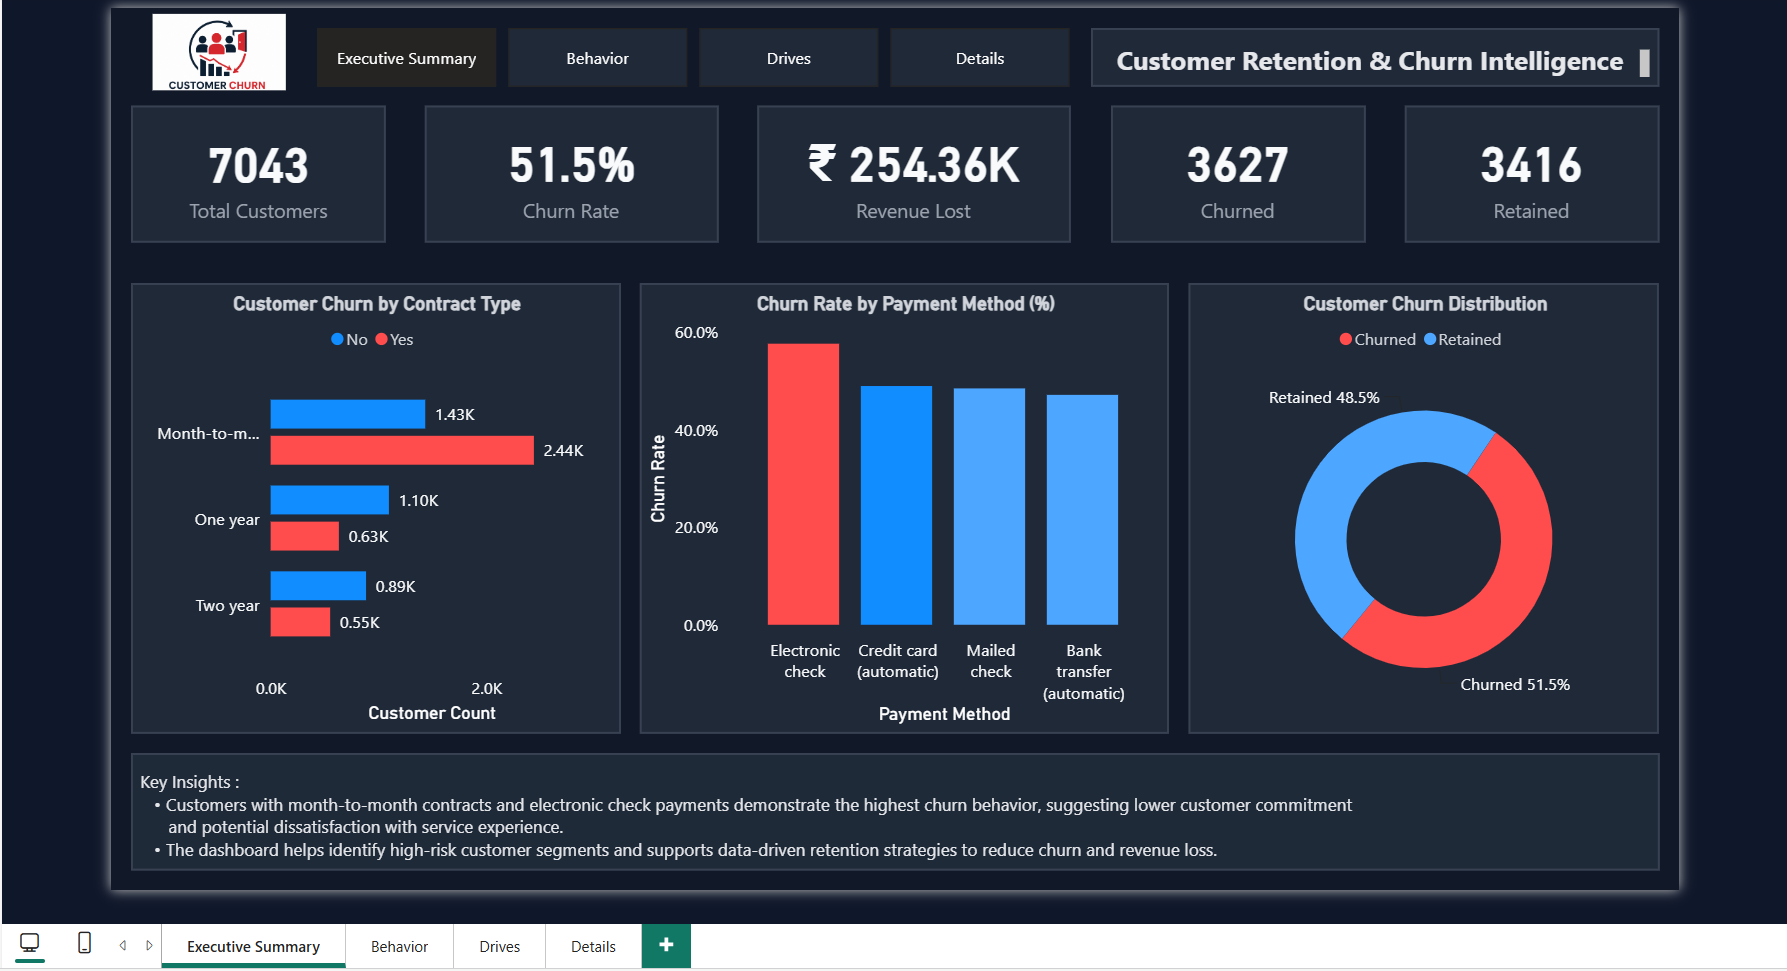

The page's visual inventory and layout, read from the dashboard file:
{"tool":"powerbi","page":{"name":"Executive Summary","canvas":[1280,720],"ordinal":0},"visuals":[{"type":"card","fields":{"Values":["churn_project customers.Churn Rate"]},"box":[256,80,240,112],"z":0},{"type":"card","fields":{"Values":["churn_project customers.Churned Customers"]},"box":[816,80,208,112],"z":1000},{"type":"card","fields":{"Values":["churn_project customers.Revenue Lost"]},"box":[528,80,256,112],"z":2000},{"type":"card","fields":{"Values":["churn_project customers.Total Customers"]},"box":[16,80,208,112],"z":3000},{"type":"textbox","box":[800,16,464,48],"z":4000},{"type":"textbox","box":[16,608,1248,96],"z":5000},{"type":"columnChart","title":" Churn Rate by Payment Method (%)","fields":{"Y":["churn_project customers.Churn Rate"],"Category":["churn_project customers.PaymentMethod"]},"box":[432,224,432,368],"z":6000},{"type":"donutChart","title":"Customer Churn Distribution","fields":{"Y":["churn_project customers.Churned Customers","churn_project customers.Non Churned Customers"]},"box":[880,224,384,368],"z":7000},{"type":"card","fields":{"Values":["churn_project customers.Non Churned Customers"]},"box":[1056,80,208,112],"z":8000},{"type":"clusteredBarChart","title":"Customer Churn by Contract Type","fields":{"Y":["CountNonNull(churn_project fact_churn.churn)"],"Series":["churn_project fact_churn.churn"],"Category":["churn_project dim_contract.contract_type"]},"box":[16,224,400,368],"z":9000},{"type":"pageNavigator","box":[168,16,616,48],"z":10000},{"type":"image","box":[16,0,144,72],"z":11000}]}

Visuals, with their boxes on the page's 1280x720 design canvas (x1, y1, x2, y2). These are canvas units, not pixel positions in the 1787x971 screenshot, which may show the page scaled, cropped or inside an application window:
card - churn_project customers.Churn Rate: {"x1": 256, "y1": 80, "x2": 496, "y2": 192}
card - churn_project customers.Churned Customers: {"x1": 816, "y1": 80, "x2": 1024, "y2": 192}
card - churn_project customers.Revenue Lost: {"x1": 528, "y1": 80, "x2": 784, "y2": 192}
card - churn_project customers.Total Customers: {"x1": 16, "y1": 80, "x2": 224, "y2": 192}
textbox: {"x1": 800, "y1": 16, "x2": 1264, "y2": 64}
textbox: {"x1": 16, "y1": 608, "x2": 1264, "y2": 704}
" Churn Rate by Payment Method (%)" columnChart: {"x1": 432, "y1": 224, "x2": 864, "y2": 592}
"Customer Churn Distribution" donutChart: {"x1": 880, "y1": 224, "x2": 1264, "y2": 592}
card - churn_project customers.Non Churned Customers: {"x1": 1056, "y1": 80, "x2": 1264, "y2": 192}
"Customer Churn by Contract Type" clusteredBarChart: {"x1": 16, "y1": 224, "x2": 416, "y2": 592}
pageNavigator: {"x1": 168, "y1": 16, "x2": 784, "y2": 64}
image: {"x1": 16, "y1": 0, "x2": 160, "y2": 72}
